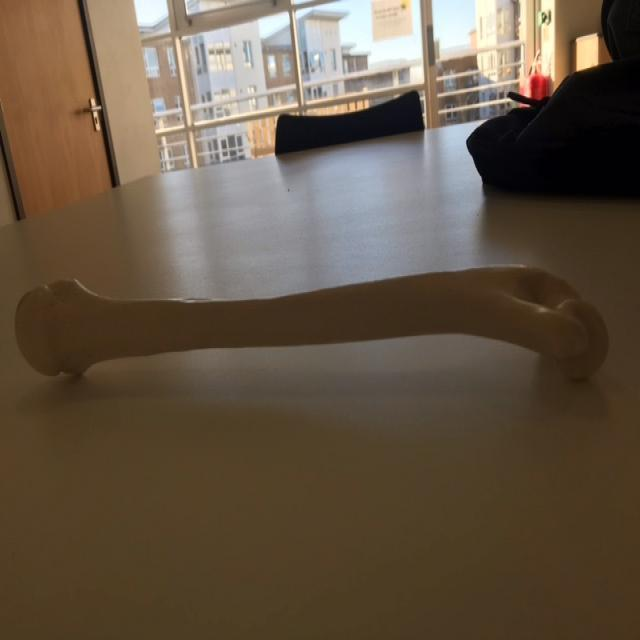bone: (10, 258, 611, 394)
